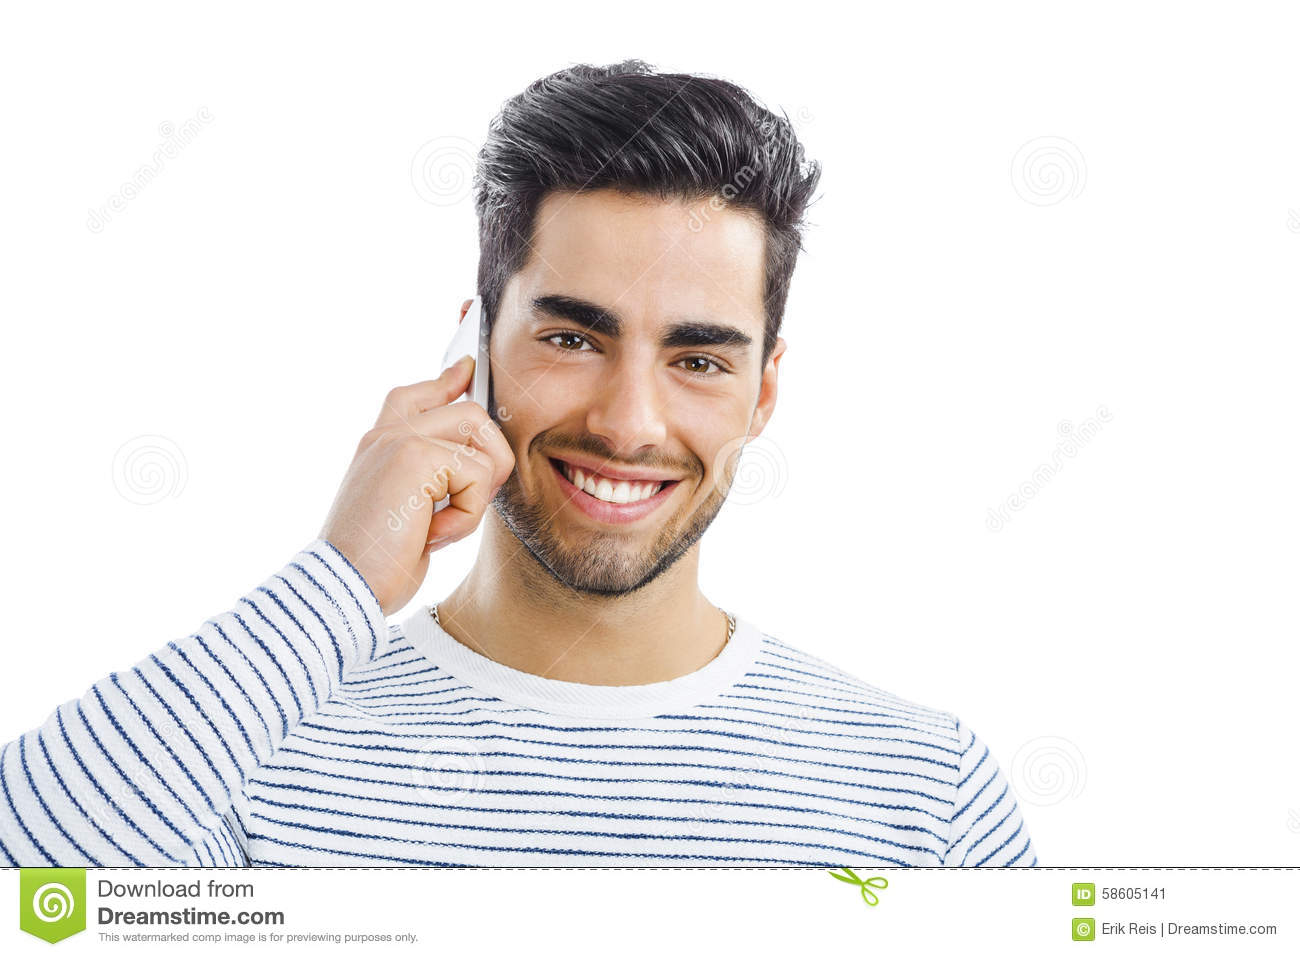phone: (420, 291, 492, 560)
talk: (325, 273, 759, 651)
